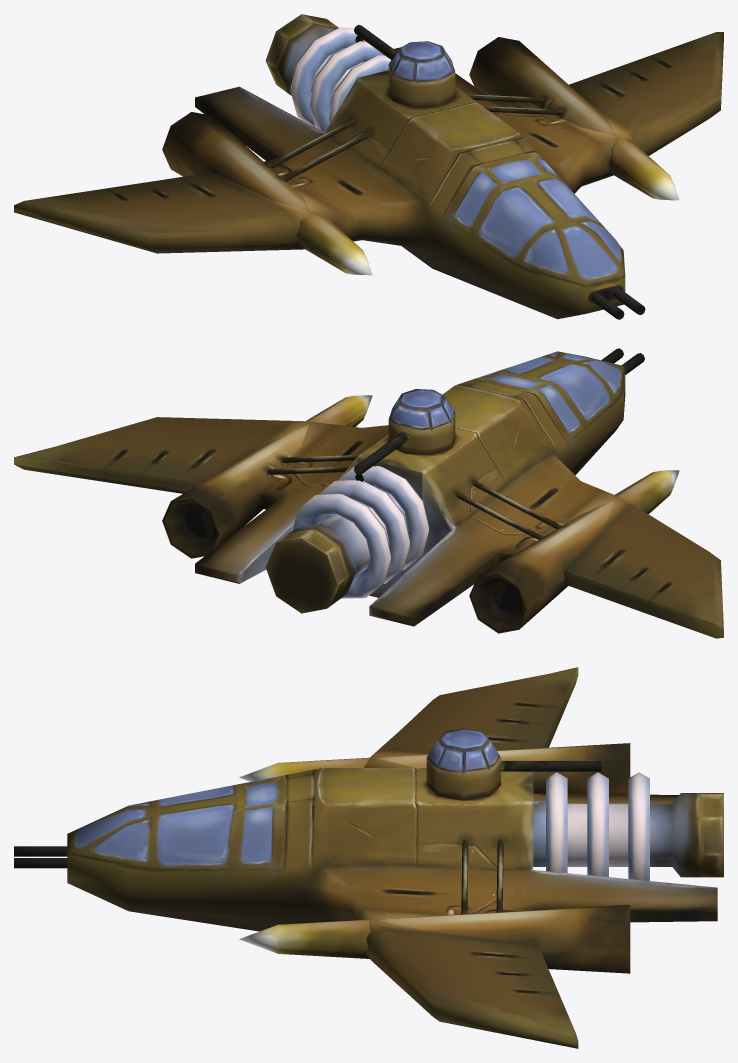
Rendered from scout.fbx.
3 views of the same model, one above another, from view 1: azimuth 30°, elevation 25°; view 2: azimuth 150°, elevation 25°; view 3: azimuth 270°, elevation 25° (orthographic). The views are drawn at different scales.
Parts seen in each view (by area): view 1: Scout ship, Scout ship gun; view 2: Scout ship, Scout ship gun; view 3: Scout ship, Scout ship gun.
Boxes of the visible parts, x1,y1,x2,y2 form: Scout ship: (14,14,723,319); Scout ship gun: (354,24,455,107); Scout ship: (14,348,723,638); Scout ship gun: (354,389,455,475); Scout ship: (14,667,723,1048); Scout ship gun: (426,728,601,800).
Size of the model in its own units: 100 by 24.05 by 80.24.
